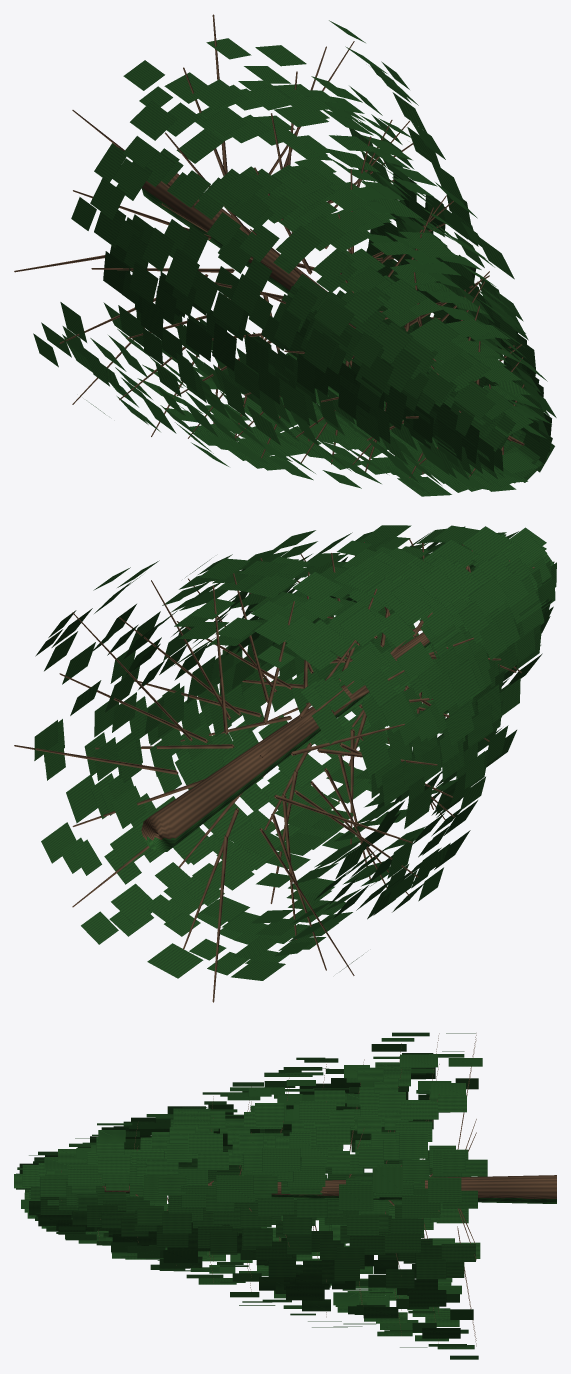
File: veg_conifer_pine_01.obj
3 renders of one model, top to bottom at view 1: azimuth 30°, elevation 25°; view 2: azimuth 150°, elevation 25°; view 3: azimuth 270°, elevation 25°, orthographic. The views are drawn at different scales.
Parts seen in each view (by area): view 1: veg_conifer_pine_01; view 2: veg_conifer_pine_01; view 3: veg_conifer_pine_01.
Part boxes in pixels (x1,y1,x2,y2): veg_conifer_pine_01: [14, 14, 556, 496]; veg_conifer_pine_01: [14, 525, 556, 1002]; veg_conifer_pine_01: [14, 1032, 556, 1359].
Size of the model in its own units: 5.9 by 5.9 by 9.5.
1 material, 1 textured.
